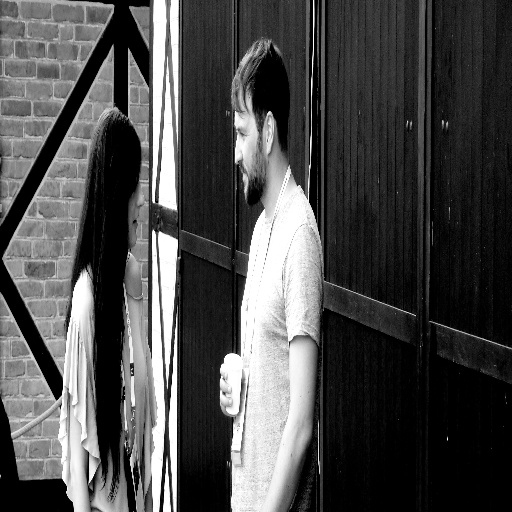hand: (218, 363, 246, 418)
